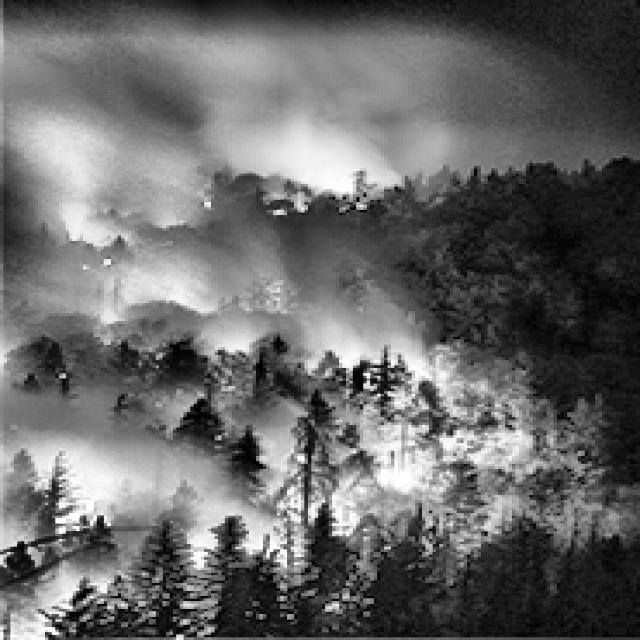fire: (28, 40, 570, 640)
